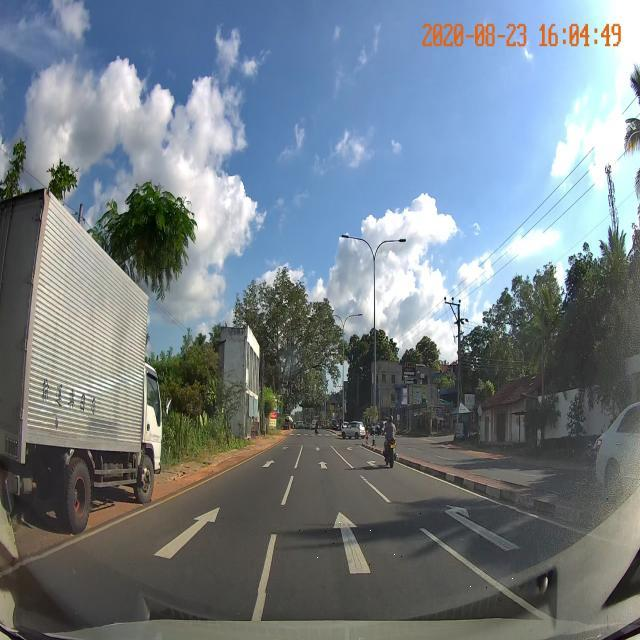forward: (259, 506, 516, 593)
